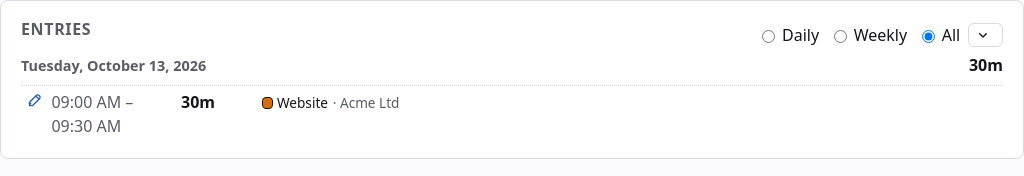
the period (item 22) › summarises weekly
The image size is (1024, 176).
Click the radio button labelled "Weekly".
click(840, 36)  # box [834,30,847,43]
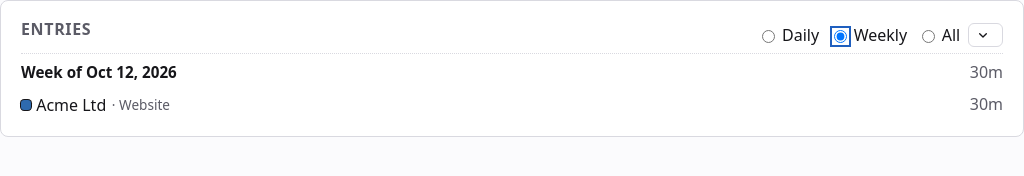
Now the heading "Week of Oct 12, 2026" is shown, box [21,61,177,84]
